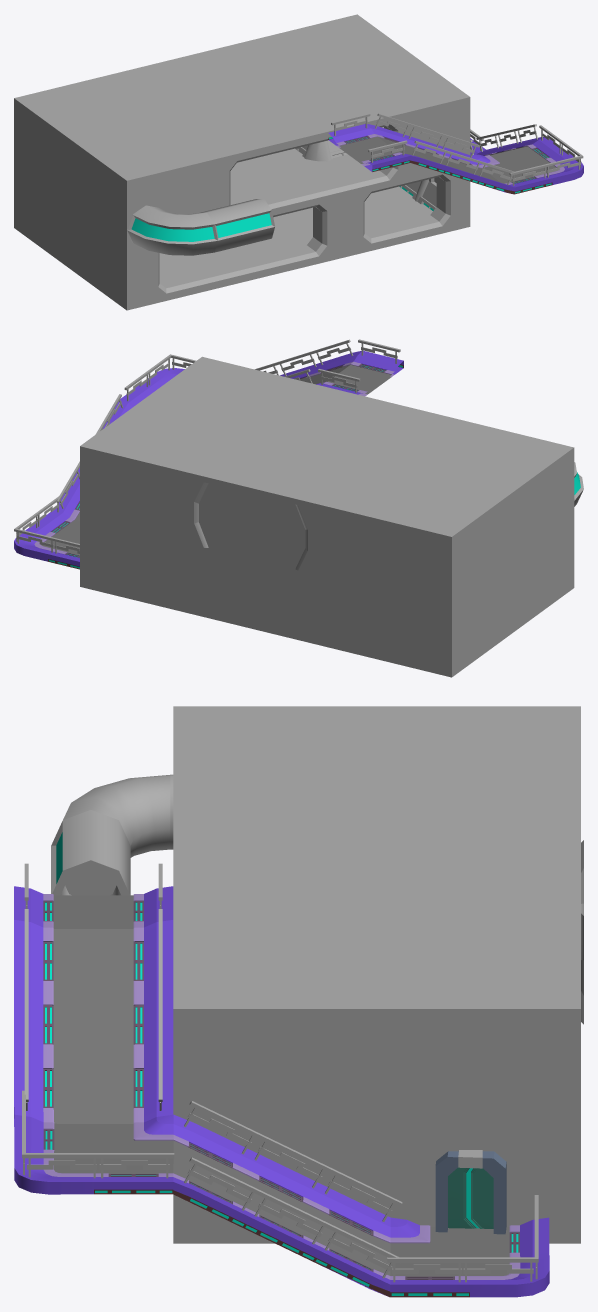
File: Hallway_Tile.fbx
The picture shows the model from 3 angles, top to bottom: view 1: azimuth 30°, elevation 25°; view 2: azimuth 150°, elevation 25°; view 3: azimuth 270°, elevation 25°; orthographic projection. The views are drawn at different scales.
Visible parts, largest first — view 1: pCube33; view 2: pCube33; view 3: pCube33.
Part boxes in pixels (x1,y1,x2,y2): pCube33: (14, 14, 583, 310); pCube33: (14, 339, 583, 677); pCube33: (14, 706, 583, 1297).
Size of the model in its own units: 22.01 by 7.06 by 14.33.
